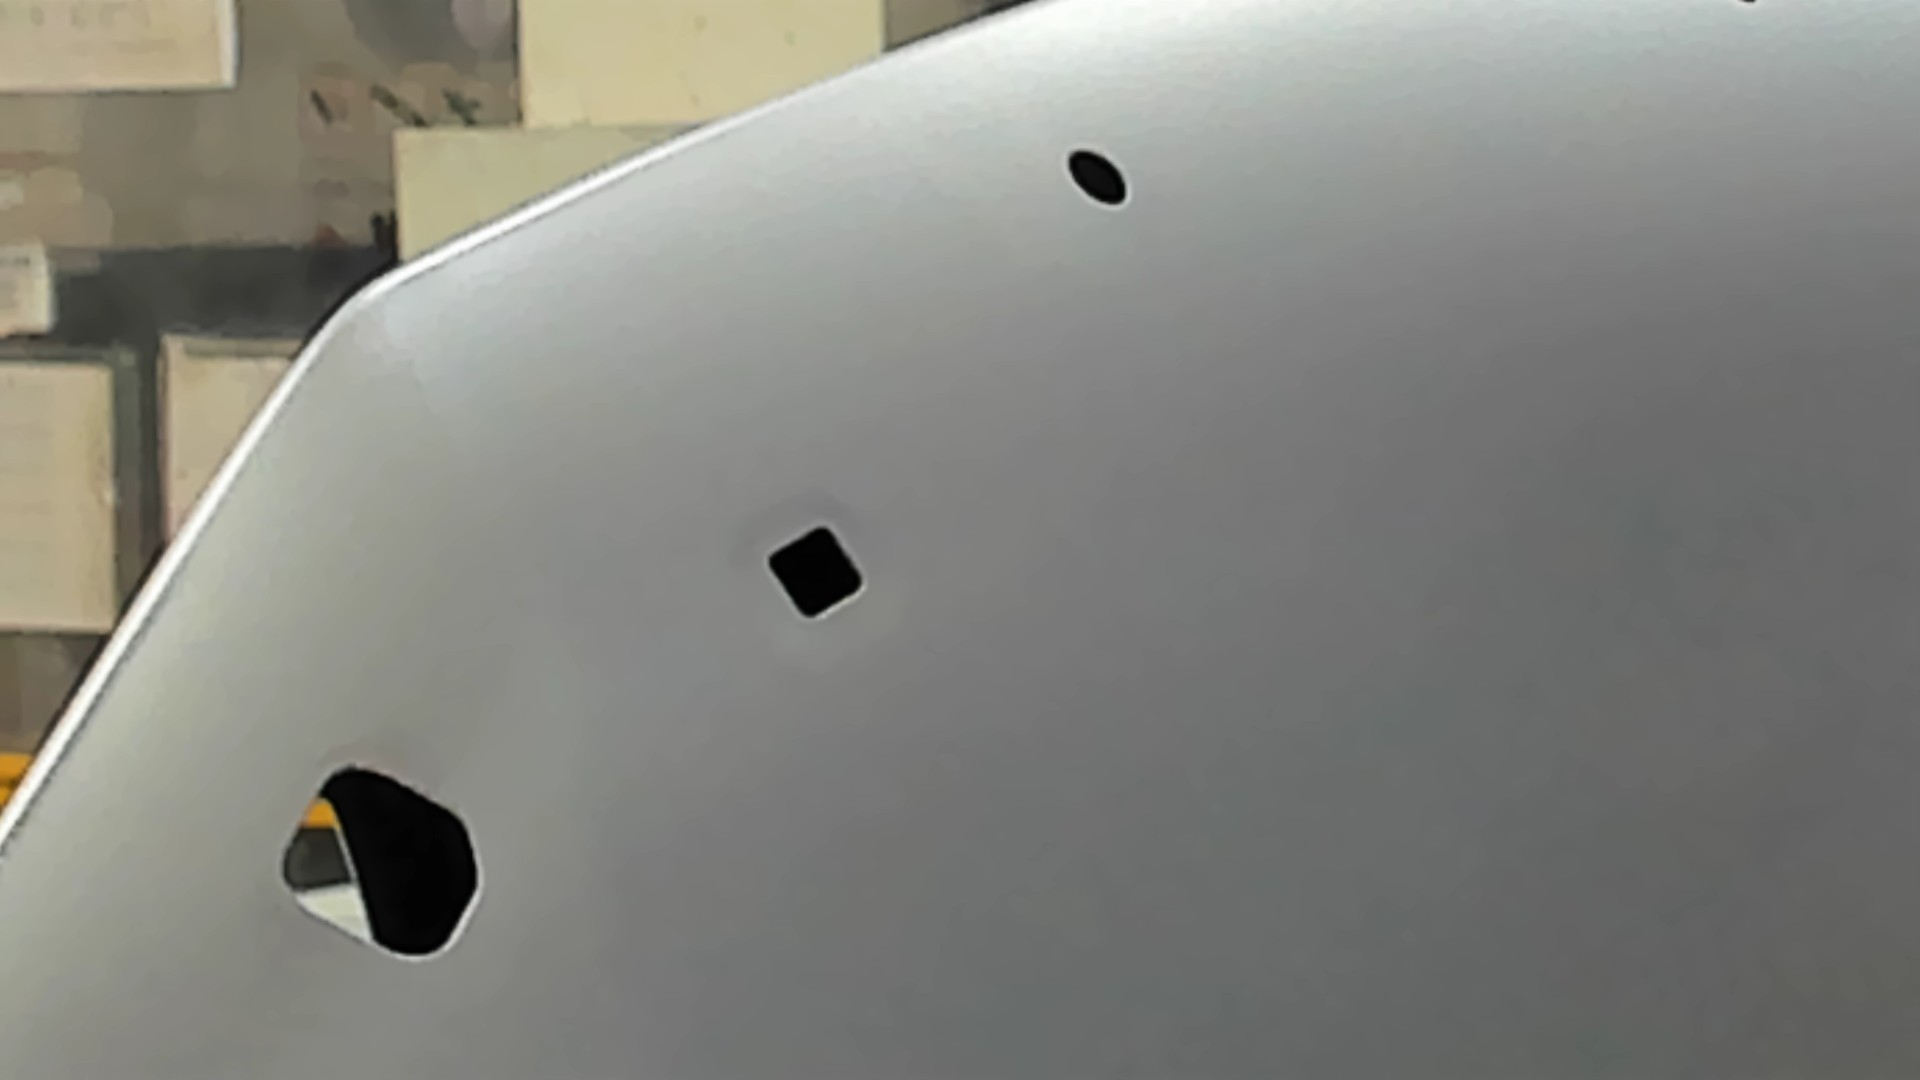chico: (1065, 144, 1129, 210)
grande: (280, 760, 484, 967)
mediano: (764, 524, 866, 622)
